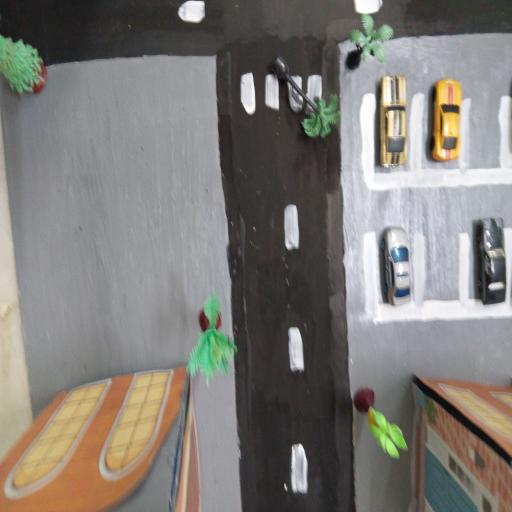fallen trees: (268, 52, 344, 156)
